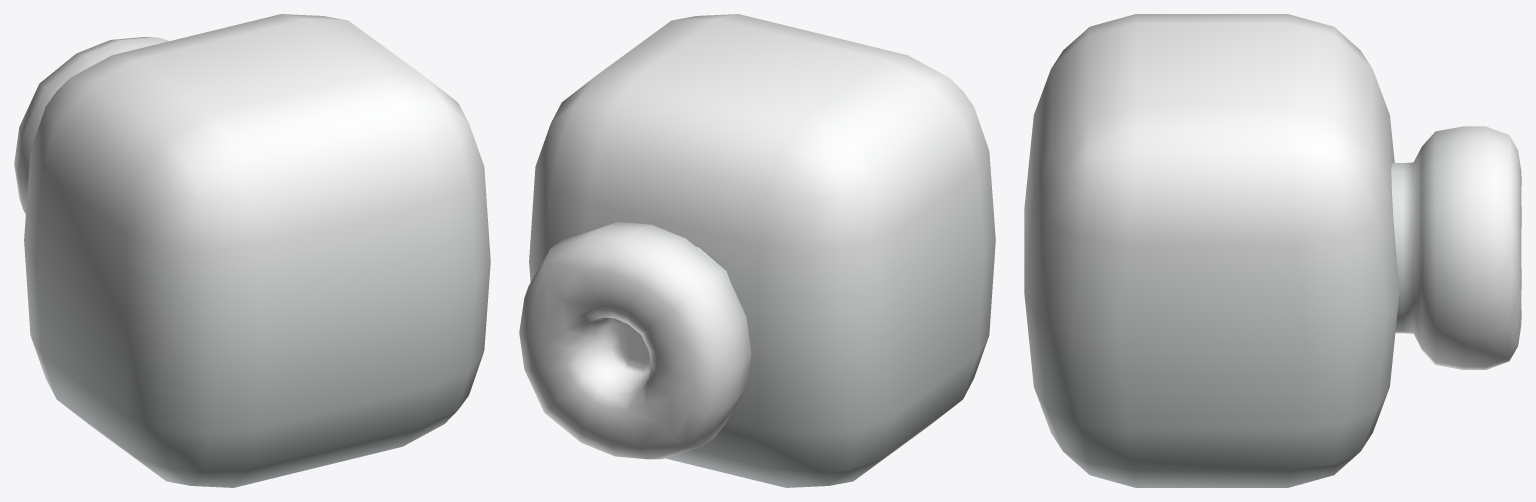
The model's file is ShooterBlock.fbx.
3 views of the same model, side by side, from view 1: azimuth 30°, elevation 25°; view 2: azimuth 150°, elevation 25°; view 3: azimuth 270°, elevation 25° (orthographic).
Visible parts, largest first — view 1: ShooterBlock; view 2: ShooterBlock; view 3: ShooterBlock.
Boxes of the visible parts, x1,y1,x2,y2 form: ShooterBlock: (14, 14, 490, 487); ShooterBlock: (519, 14, 995, 487); ShooterBlock: (1024, 14, 1521, 487).
Size of the model in its own units: 80 by 80 by 96.87.
